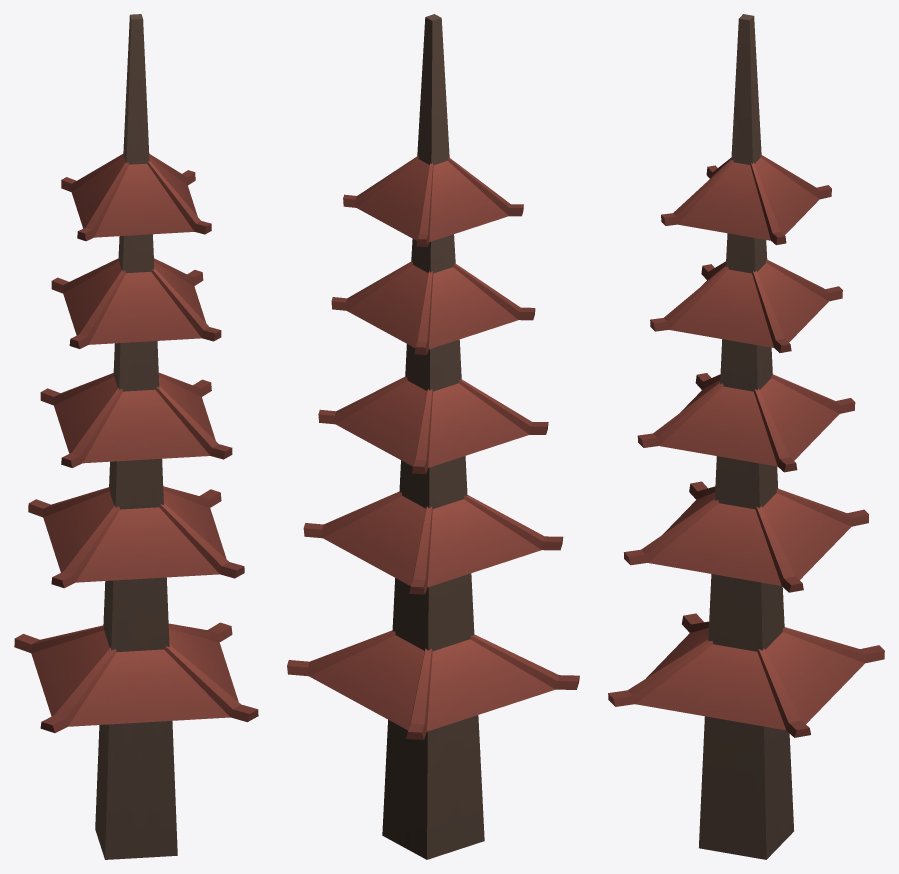
Rendered from sanctuary.fbx.
3 renders of one model, left to right at view 1: azimuth 30°, elevation 25°; view 2: azimuth 150°, elevation 25°; view 3: azimuth 270°, elevation 25°, orthographic.
Visible parts, largest first — view 1: sanctuary; view 2: sanctuary; view 3: sanctuary.
Boxes of the visible parts, left/top/right/bottom form: sanctuary: left=14, top=14, right=258, bottom=859; sanctuary: left=287, top=14, right=579, bottom=859; sanctuary: left=608, top=14, right=884, bottom=859.
Bounding box in the file's own units: 0.641 × 2.1 × 0.641.
1 material, 1 textured.
